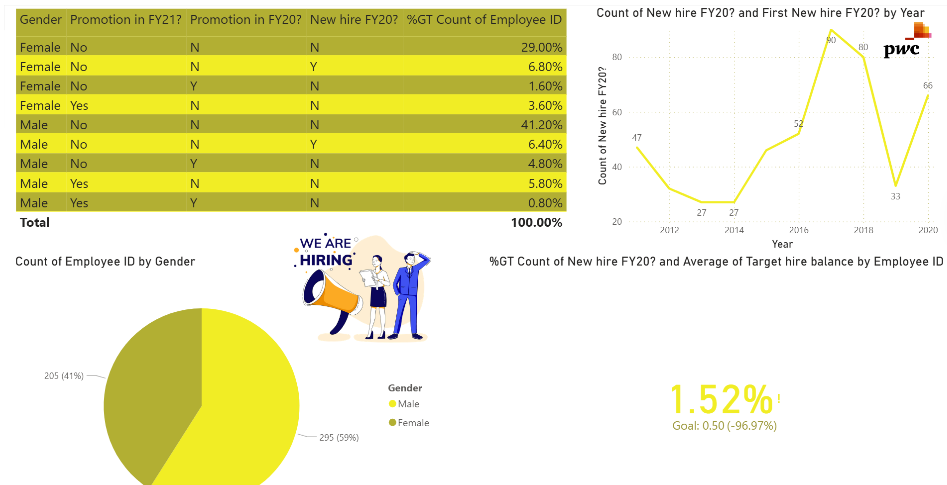

Layout of this report page (visuals, bound fields, positions):
{"tool":"powerbi","page":{"name":"Hiring KPI","canvas":[1280,720],"ordinal":1},"visuals":[{"type":"tableEx","fields":{"Values":["Pharma Group AG.Gender","Pharma Group AG.Promotion in FY21?","Pharma Group AG.Promotion in FY20?","Pharma Group AG.New hire FY20?","CountNonNull(Pharma Group AG.Employee ID)"]},"box":[10,0,775,331.7],"z":0},{"type":"pieChart","fields":{"Category":["Pharma Group AG.Gender"],"Y":["CountNonNull(Pharma Group AG.Employee ID)"]},"box":[10,331.7,573.3,388.3],"z":1000},{"type":"lineChart","fields":{"Category":["Pharma Group AG.Last hire date.Variation.Date Hierarchy.Year","Pharma Group AG.Last hire date.Variation.Date Hierarchy.Quarter","Pharma Group AG.Last hire date.Variation.Date Hierarchy.Month","Pharma Group AG.Last hire date.Variation.Date Hierarchy.Day"],"Y":["CountNonNull(Pharma Group AG.New hire FY20?)"]},"box":[785,0,465,331.7],"z":2000},{"type":"kpi","fields":{"Goal":["Avg(Pharma Group AG.Target hire balance)"],"Indicator":["CountNonNull(Pharma Group AG.New hire FY20?)"],"TrendLine":["Pharma Group AG.Employee ID"]},"box":[641.7,331.7,638.3,388.3],"z":3000},{"type":"image","box":[1129,0,151,94.5],"z":4000},{"type":"image","box":[328.3,226.7,300,300],"z":5000}]}

Visuals, with their boxes on the page's 1280x720 design canvas (x1, y1, x2, y2). These are canvas units, not pixel positions in the 947x485 screenshot, which may show the page scaled, cropped or inside an application window:
tableEx - Pharma Group AG.Gender x Pharma Group AG.Promotion in FY21?: [10, 0, 785, 332]
pieChart - Pharma Group AG.Gender x CountNonNull(Pharma Group AG.Employee ID): [10, 332, 583, 720]
lineChart - Pharma Group AG.Last hire date.Variation.Date Hierarchy.Year x Pharma Group AG.Last hire date.Variation.Date Hierarchy.Quarter: [785, 0, 1250, 332]
kpi - Avg(Pharma Group AG.Target hire balance) x CountNonNull(Pharma Group AG.New hire FY20?): [642, 332, 1280, 720]
image: [1129, 0, 1280, 94]
image: [328, 227, 628, 527]
